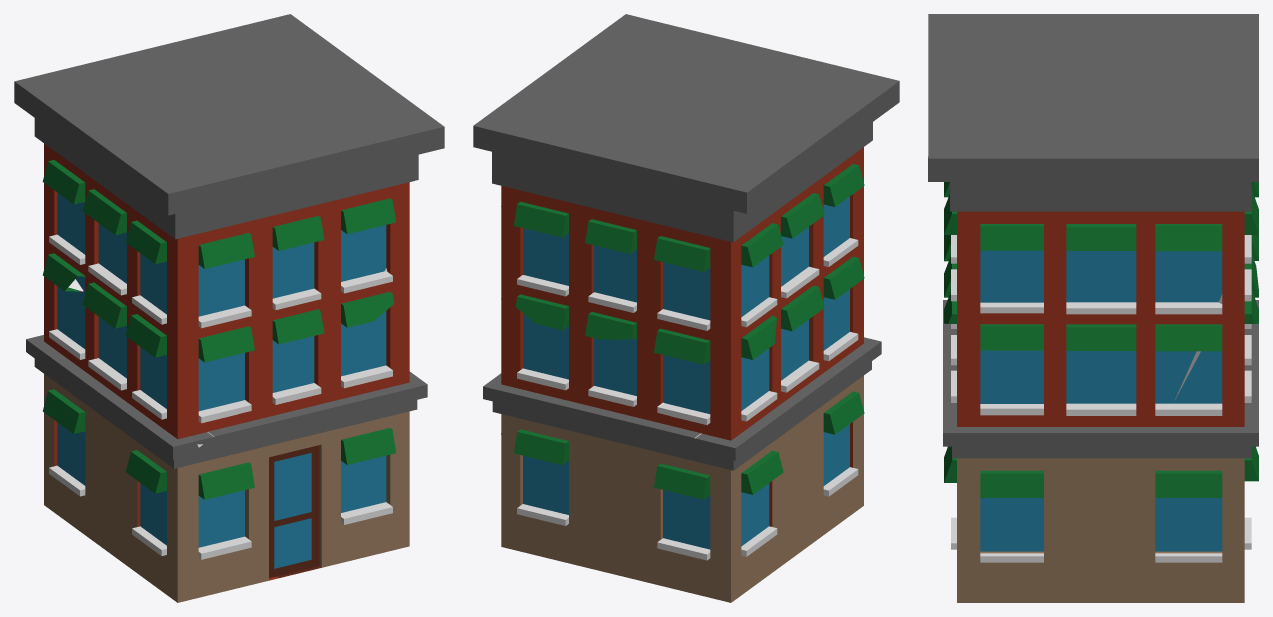
File: kamieniczka sklep_destrukcja.fbx
3 views of the same model, side by side, from view 1: azimuth 30°, elevation 25°; view 2: azimuth 150°, elevation 25°; view 3: azimuth 270°, elevation 25° (orthographic). The views are drawn at different scales.
Visible parts, largest first — view 1: budynek nr.006, budynek nr.024, budynek nr.010, budynek nr.018, budynek nr.011, budynek nr.003, budynek nr.021, budynek nr.004, budynek nr.005, budynek nr.012, budynek nr.017, budynek nr.025 (+5 smaller); view 2: budynek nr.007, budynek nr.001, budynek nr.010, budynek nr.024, budynek nr.003, budynek nr.021, budynek nr.009, budynek nr.006, budynek nr.017, budynek nr.011, budynek nr.005, budynek nr.023 (+2 smaller); view 3: budynek nr.017, budynek nr.024, budynek nr.007, budynek nr.008, budynek nr.018, budynek nr.010, budynek nr.004, budynek nr.006, budynek nr.022, budynek nr.001, budynek nr.023, budynek nr.003 (+2 smaller).
Boxes of the visible parts, bbox=[...] form: budynek nr.006: bbox=[119, 147, 406, 444]; budynek nr.024: bbox=[129, 63, 444, 248]; budynek nr.010: bbox=[14, 53, 202, 291]; budynek nr.018: bbox=[253, 437, 409, 577]; budynek nr.011: bbox=[81, 393, 253, 602]; budynek nr.003: bbox=[41, 365, 281, 592]; budynek nr.021: bbox=[82, 147, 202, 444]; budynek nr.004: bbox=[304, 287, 427, 446]; budynek nr.005: bbox=[65, 292, 198, 459]; budynek nr.012: bbox=[204, 326, 354, 444]; budynek nr.017: bbox=[203, 14, 409, 250]; budynek nr.025: bbox=[199, 437, 303, 528]; budynek nr.007: bbox=[483, 340, 742, 578]; budynek nr.001: bbox=[501, 133, 726, 340]; budynek nr.010: bbox=[617, 118, 836, 336]; budynek nr.024: bbox=[576, 14, 824, 132]; budynek nr.003: bbox=[630, 428, 836, 602]; budynek nr.021: bbox=[773, 116, 868, 338]; budynek nr.009: bbox=[573, 337, 753, 461]; budynek nr.006: bbox=[720, 37, 899, 289]; budynek nr.017: bbox=[473, 50, 616, 228]; budynek nr.011: bbox=[780, 361, 871, 524]; budynek nr.005: bbox=[754, 337, 881, 427]; budynek nr.023: bbox=[501, 289, 572, 342]; budynek nr.017: bbox=[957, 98, 1258, 324]; budynek nr.024: bbox=[928, 23, 1196, 278]; budynek nr.007: bbox=[1115, 323, 1258, 602]; budynek nr.008: bbox=[980, 324, 1218, 456]; budynek nr.018: bbox=[944, 446, 1114, 602]; budynek nr.010: bbox=[1051, 14, 1258, 97]; budynek nr.004: bbox=[943, 324, 1053, 487]; budynek nr.006: bbox=[928, 14, 1050, 323]; budynek nr.022: bbox=[1054, 404, 1184, 548]; budynek nr.001: bbox=[1197, 74, 1258, 324]; budynek nr.023: bbox=[1173, 324, 1244, 403]; budynek nr.003: bbox=[1091, 549, 1146, 602].
Bounding box in the file's own units: 477 × 700 × 460.
